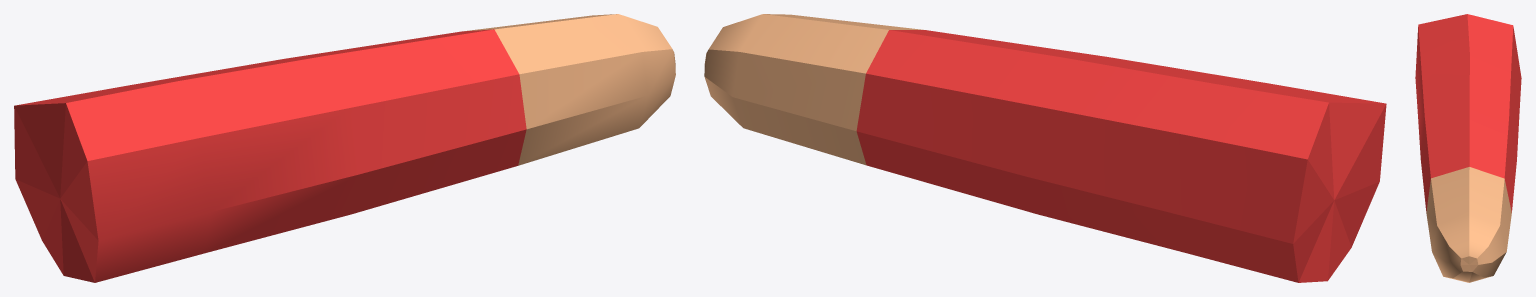
File: AXO_ANGRY_HAND_L.fbx
3 renders of one model, left to right at view 1: azimuth 30°, elevation 25°; view 2: azimuth 150°, elevation 25°; view 3: azimuth 270°, elevation 25°, orthographic. The views are drawn at different scales.
Visible parts, largest first — view 1: AXO_ANGRY_HAND_L; view 2: AXO_ANGRY_HAND_L; view 3: AXO_ANGRY_HAND_L.
Boxes of the visible parts, x1,y1,x2,y2 form: AXO_ANGRY_HAND_L: (14,14,675,282); AXO_ANGRY_HAND_L: (704,14,1386,282); AXO_ANGRY_HAND_L: (1415,14,1521,282).
Bounding box in the file's own units: 4.22 × 1.13 × 0.9907.
